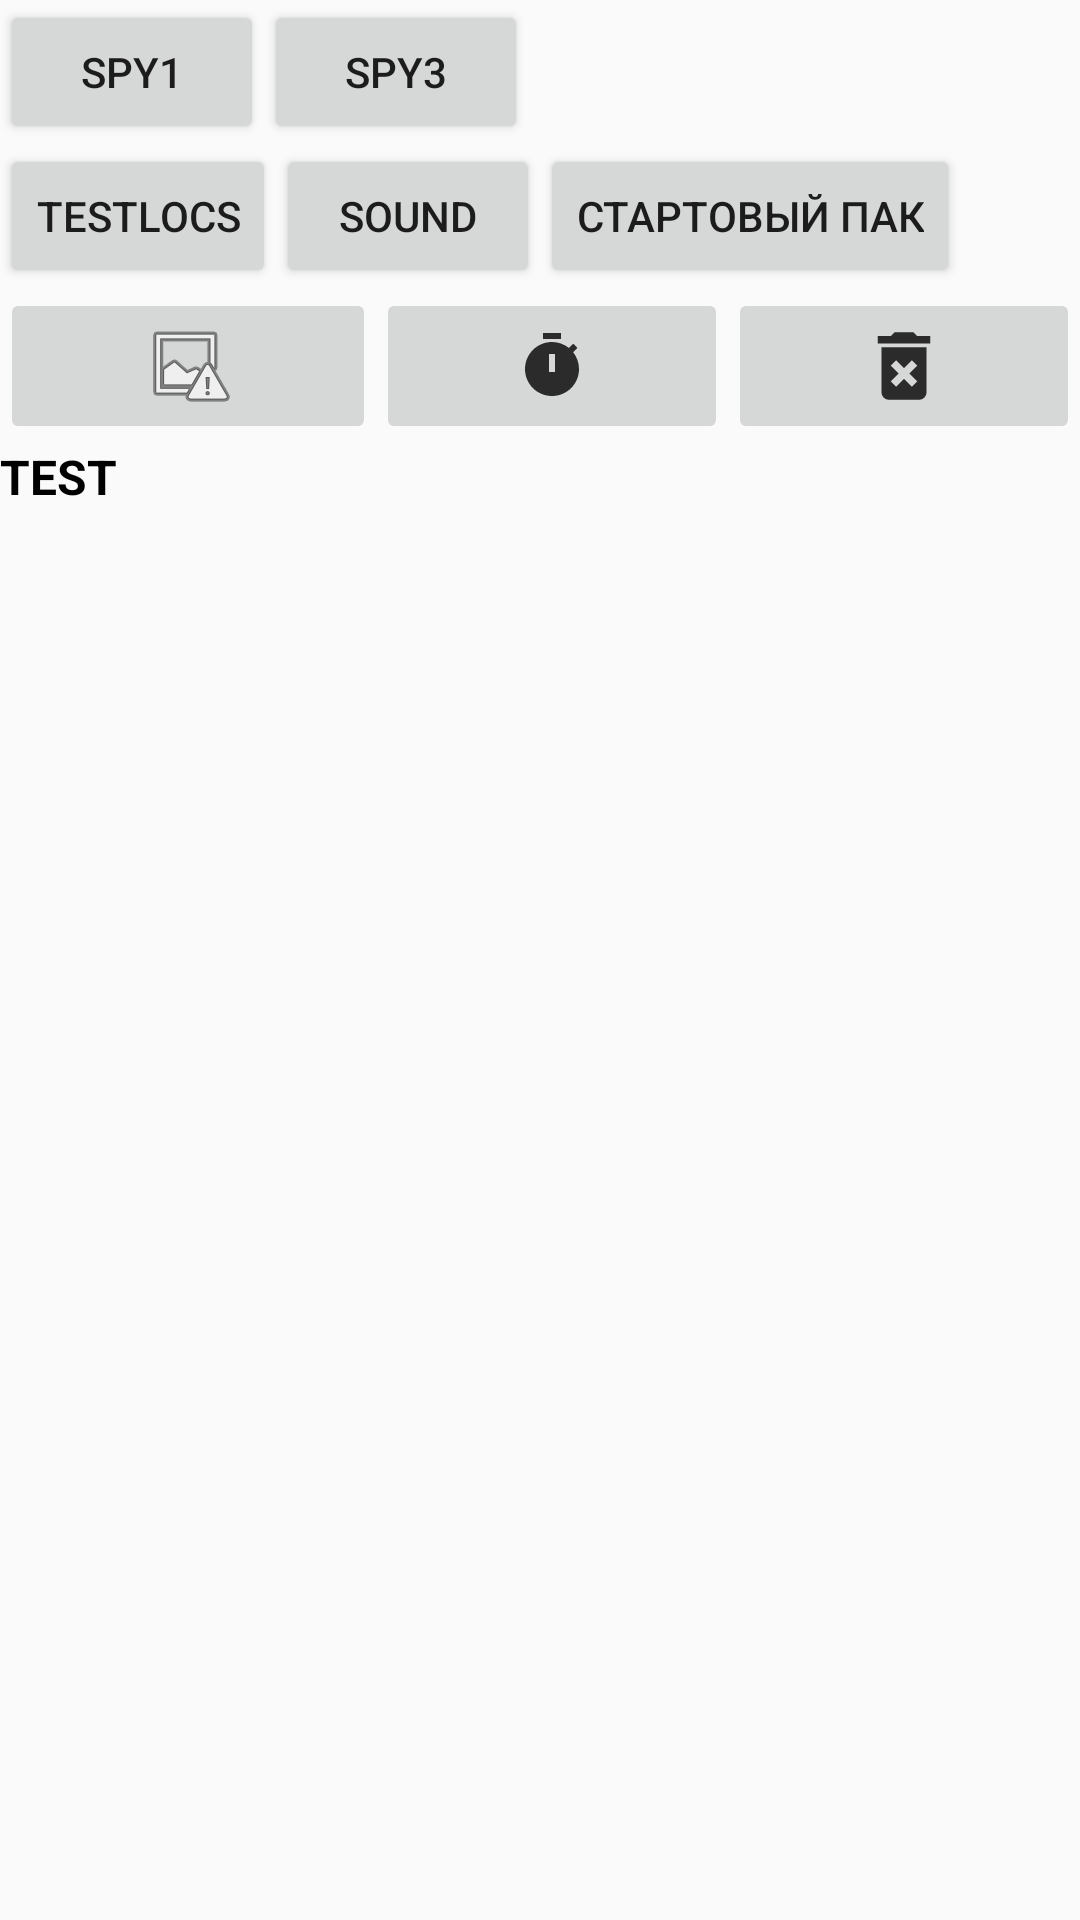

Icons on this 1080*1920 Android screen, each with its box as region(x1, y1, x2, y2):
timer on: region(388, 306, 716, 426)
trash: region(740, 306, 1068, 426)
